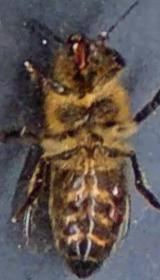varroa_mite: (106, 196, 124, 228), (106, 177, 128, 202)
